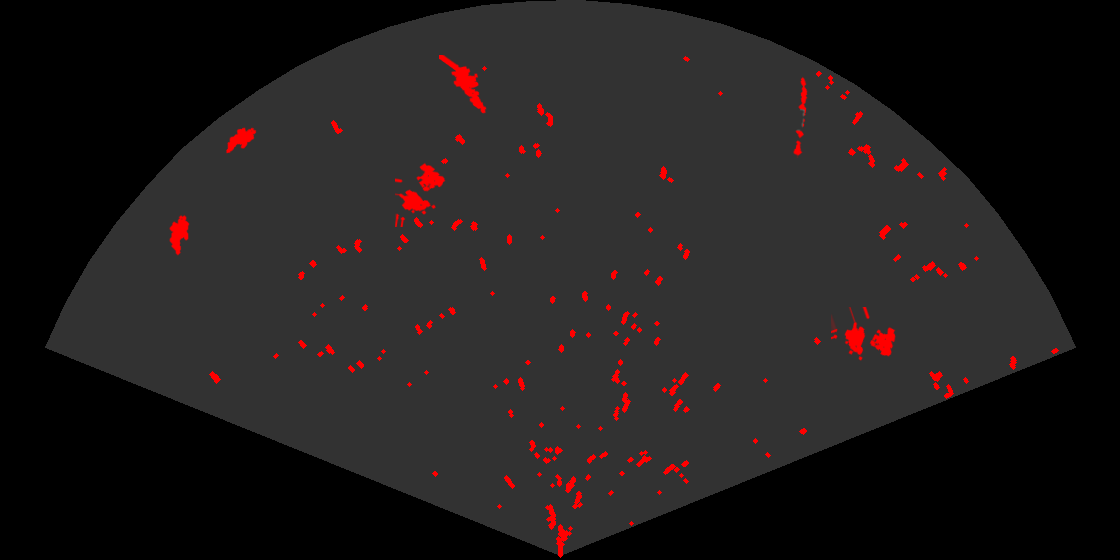AUV: (168, 213, 191, 257), (224, 126, 258, 155)
cage: (831, 307, 897, 362), (395, 161, 447, 227)
chain: (792, 76, 809, 158)
frogman: (439, 55, 488, 115)
